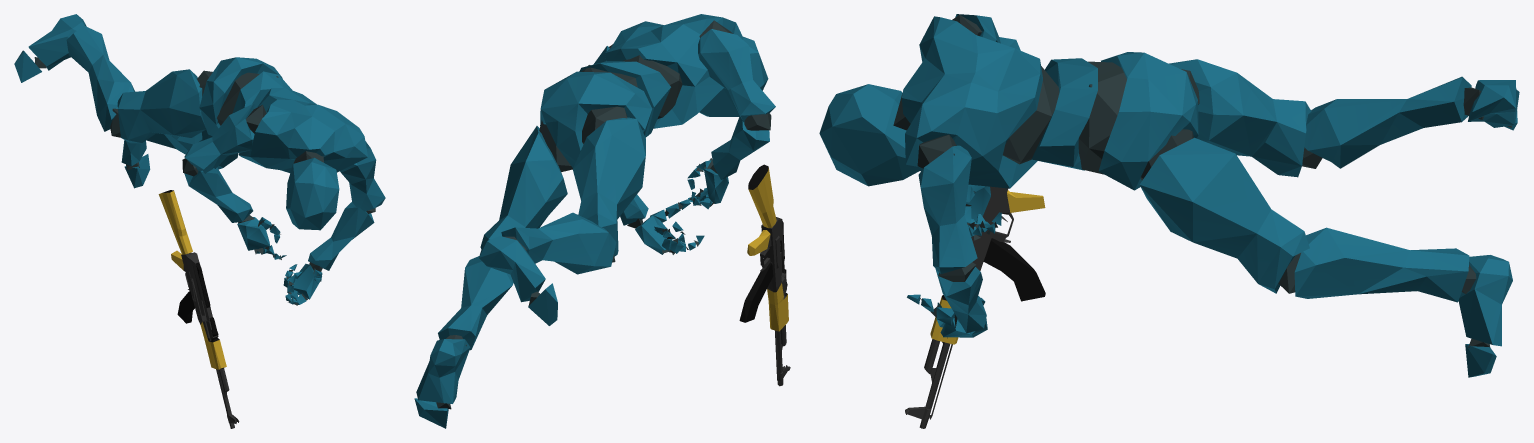
File: EnemyDying_000030.obj
The picture shows the model from 3 angles, left to right: view 1: azimuth 30°, elevation 25°; view 2: azimuth 150°, elevation 25°; view 3: azimuth 270°, elevation 25°; orthographic projection. The views are drawn at different scales.
Parts seen in each view (by area): view 1: Alpha_Surface, AK-47_Cube, Alpha_Joints; view 2: Alpha_Surface, AK-47_Cube, Alpha_Joints; view 3: Alpha_Surface, Alpha_Joints, AK-47_Cube.
Part boxes in pixels (x1=…): Alpha_Surface: x1=14, y1=14, x2=385, y2=304; AK-47_Cube: x1=158, y1=190, x2=239, y2=428; Alpha_Joints: x1=34, y1=25, x2=375, y2=305; Alpha_Surface: x1=414, y1=14, x2=775, y2=428; AK-47_Cube: x1=739, y1=164, x2=790, y2=386; Alpha_Joints: x1=436, y1=20, x2=771, y2=409; Alpha_Surface: x1=819, y1=14, x2=1519, y2=377; Alpha_Joints: x1=893, y1=14, x2=1511, y2=347; AK-47_Cube: x1=905, y1=186, x2=1045, y2=428.
Size of the model in its own units: 144 by 224 by 320.
